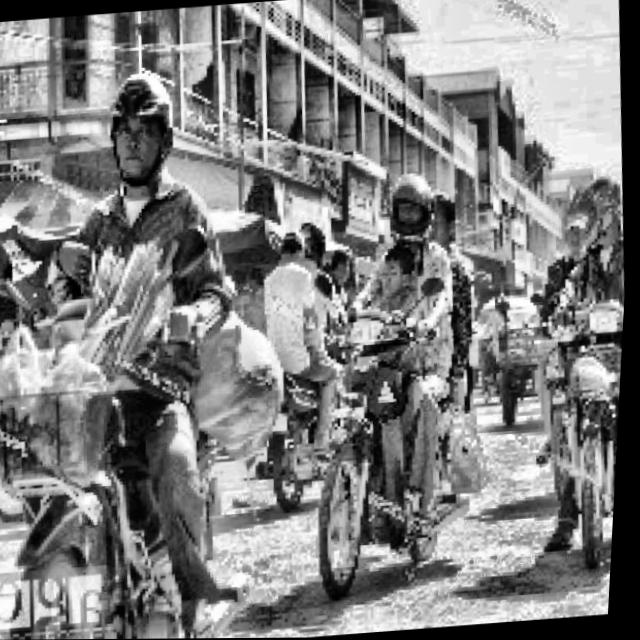motorcycle: (0, 267, 248, 640), (286, 287, 518, 593), (545, 254, 629, 572)
